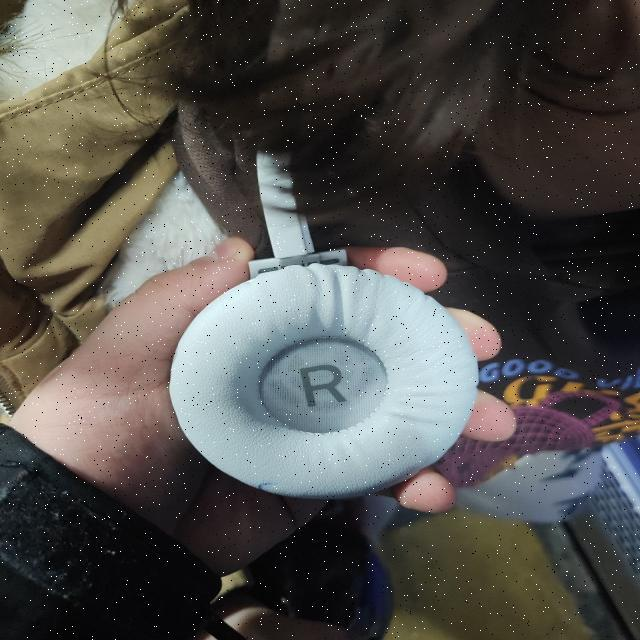Circle: (168, 266, 487, 501)
